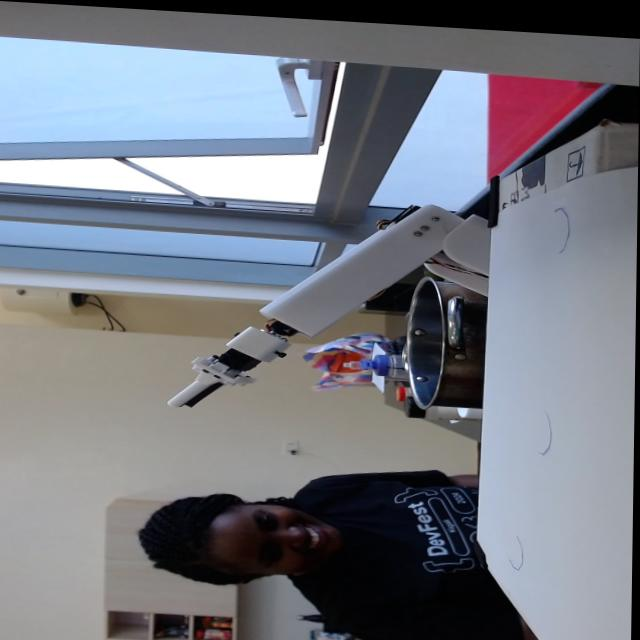cooking_pot: (406, 269, 490, 405)
